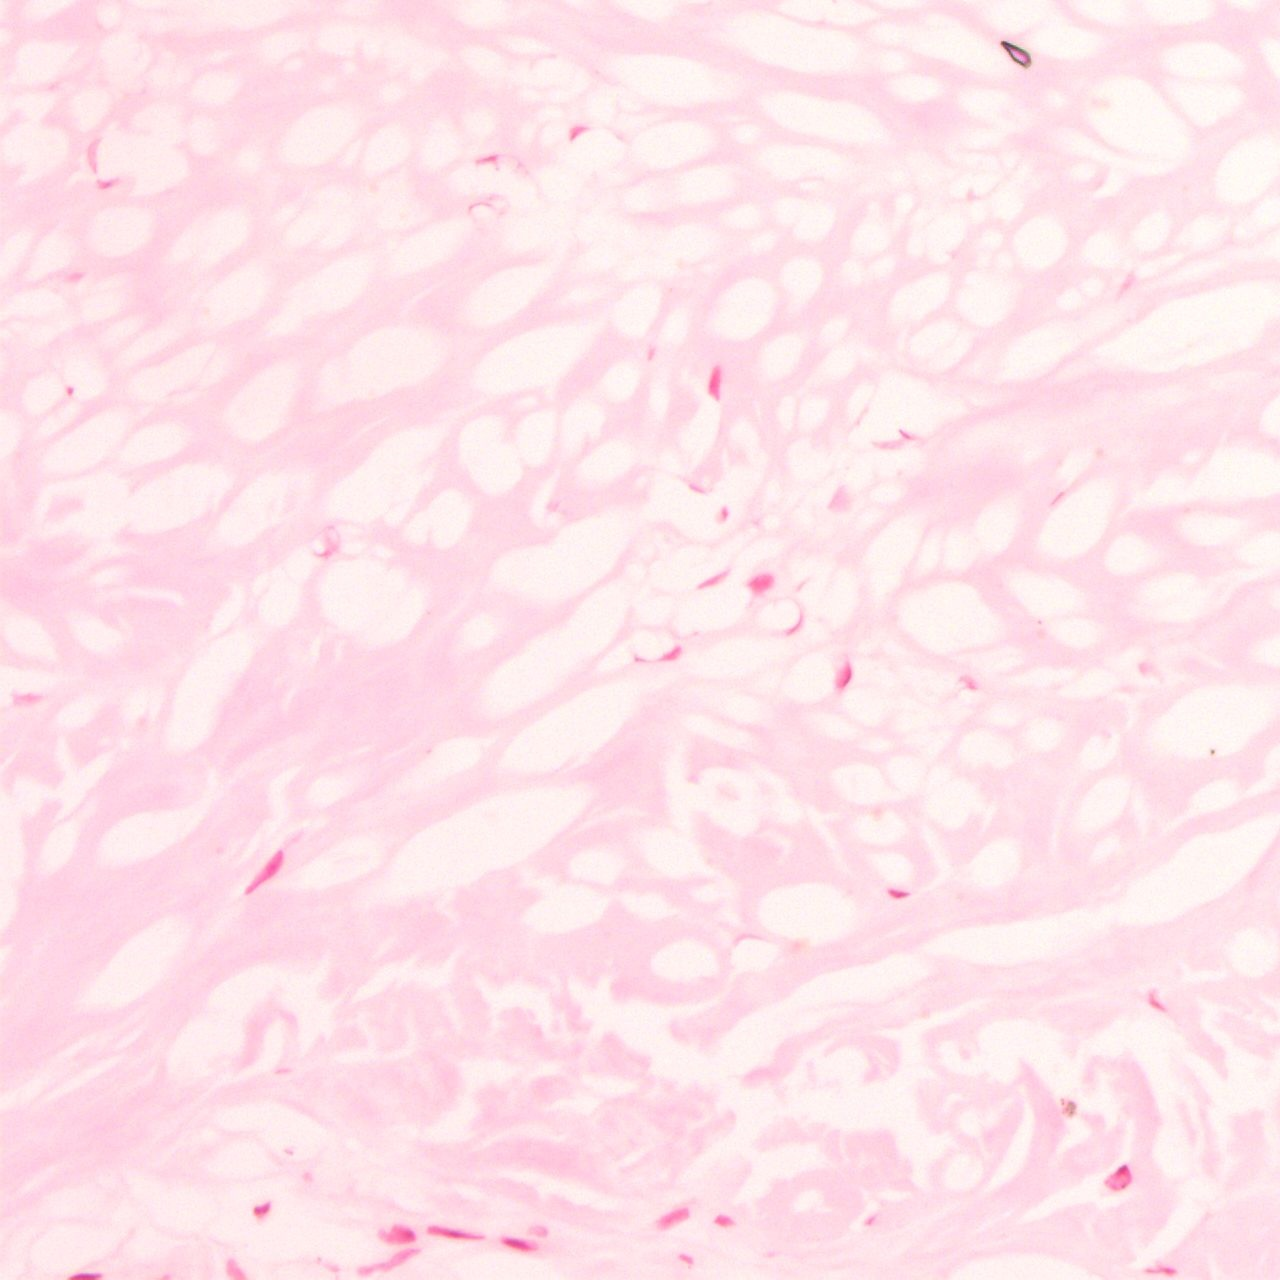dust: (996, 30, 1036, 72), (1057, 1095, 1075, 1117), (1208, 747, 1216, 754)
nucleus-AC: (239, 846, 290, 903), (629, 644, 686, 668), (653, 1201, 692, 1233), (693, 568, 730, 594), (429, 1224, 482, 1241), (376, 1223, 417, 1245), (498, 1233, 539, 1254), (1142, 983, 1169, 1015), (1103, 1163, 1132, 1190), (563, 120, 590, 145), (835, 660, 855, 694), (743, 573, 775, 593), (707, 365, 722, 401), (95, 173, 123, 190), (1144, 1264, 1176, 1275), (252, 1200, 273, 1217), (959, 673, 978, 690), (885, 887, 911, 899), (713, 1212, 731, 1227), (68, 1272, 102, 1280), (678, 1250, 693, 1262), (721, 505, 729, 520), (66, 386, 76, 397)
